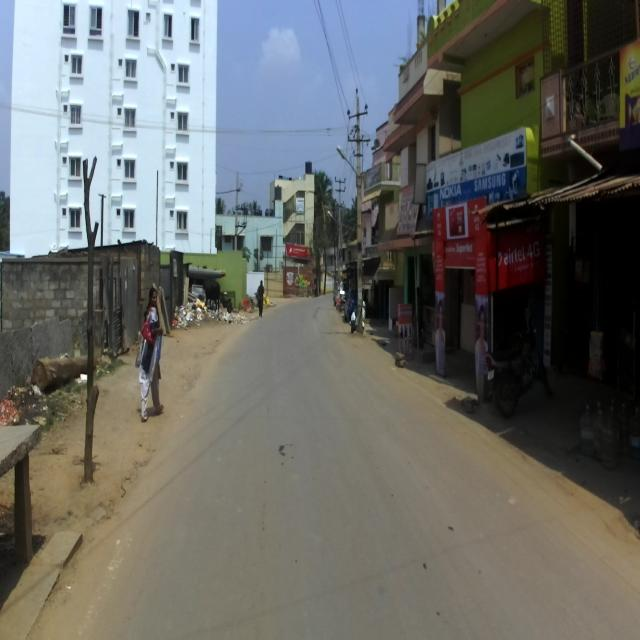electric pole ahead at: (341, 84, 374, 334)
person ahead at: (135, 281, 170, 427)
tree ahead at: (80, 141, 104, 493)
